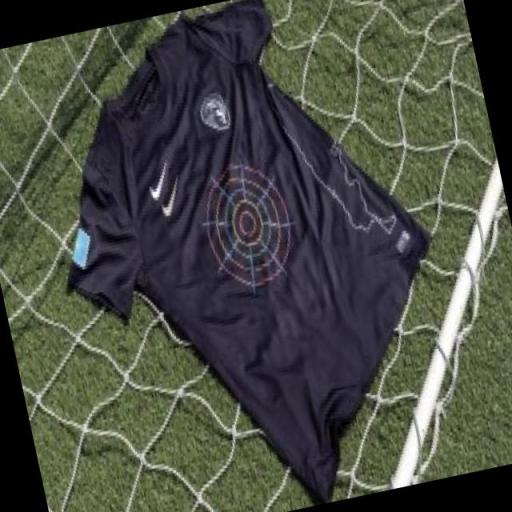Nike: (142, 157, 175, 204)
